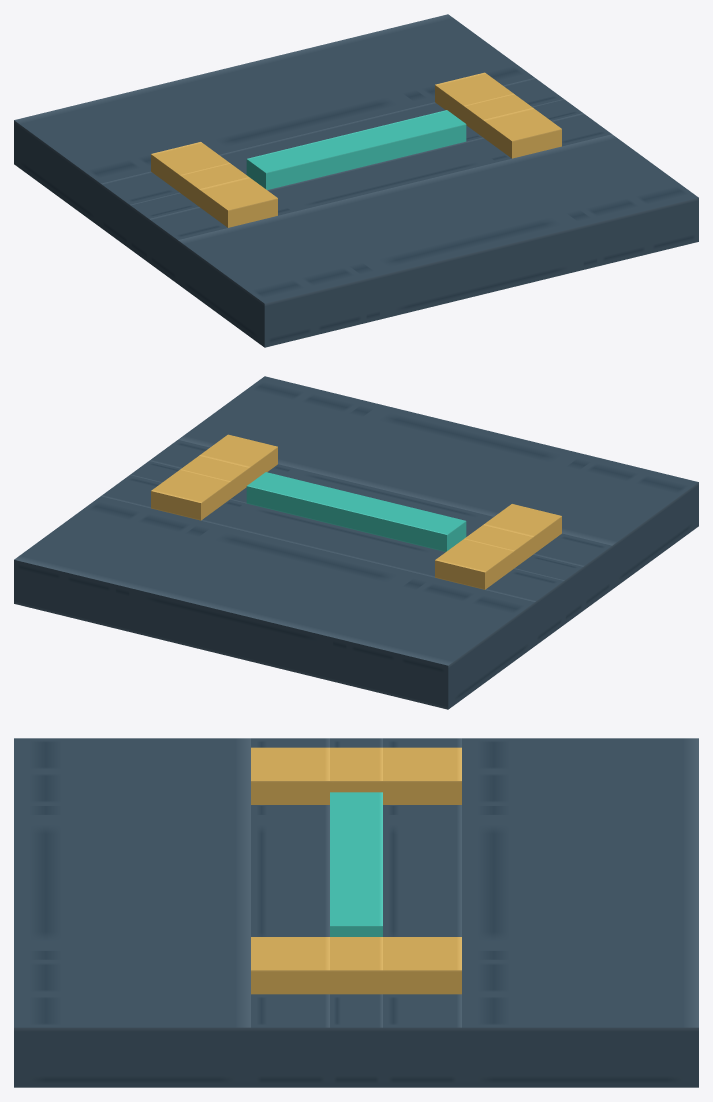
The model's file is sc_rotator.obj.
3 renders of one model, top to bottom at view 1: azimuth 30°, elevation 25°; view 2: azimuth 150°, elevation 25°; view 3: azimuth 270°, elevation 25°, orthographic. The views are drawn at different scales.
Size of the model in its own units: 16.25 by 2.2 by 16.25.
Materials: 1 (1 with a texture image).
